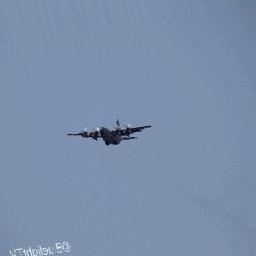Airplane: (65, 119, 153, 148)
